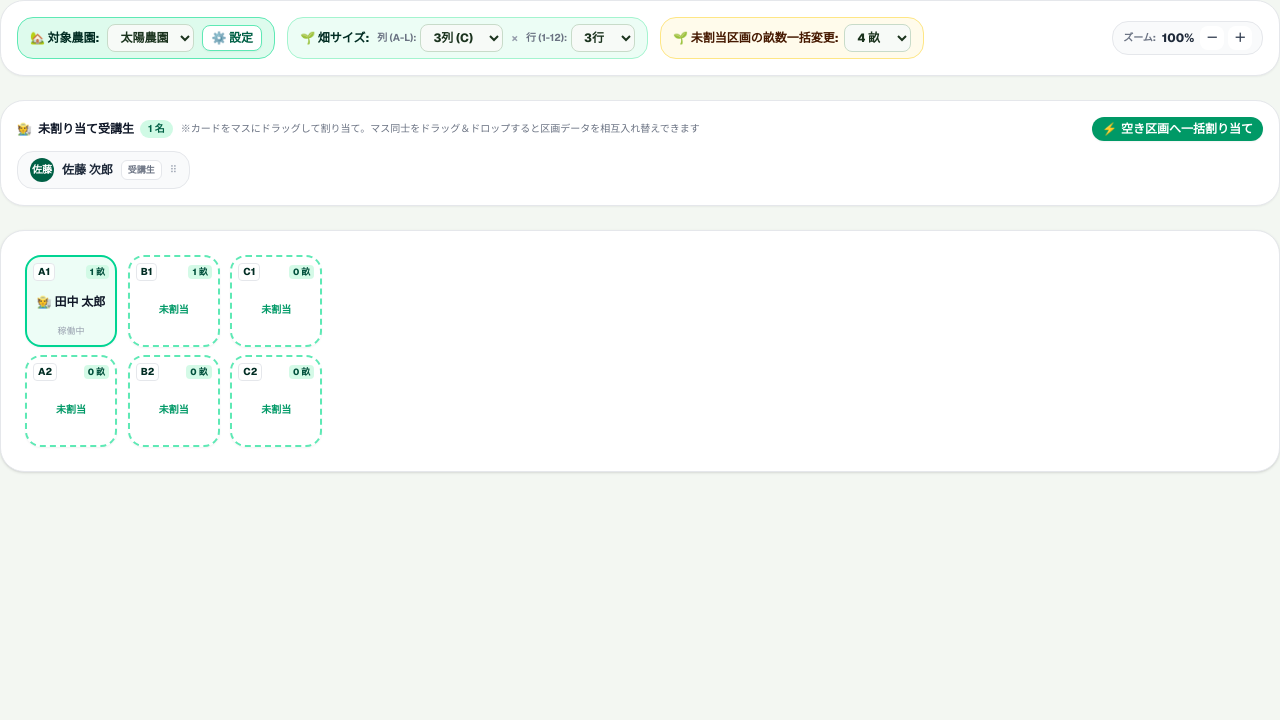
Scenario: PR-1: TeacherFarmCanvasView 特性テスト › 4. 「農園設定」からモーダルが開き、保存すると farms.name と users の更新が呼ばれる（owner_id は更新しない）
The width and height of the screenshot is (1280, 720).
Step 1. Click the button "⚙️ 設定" → (232, 38), box [202, 25, 262, 51]
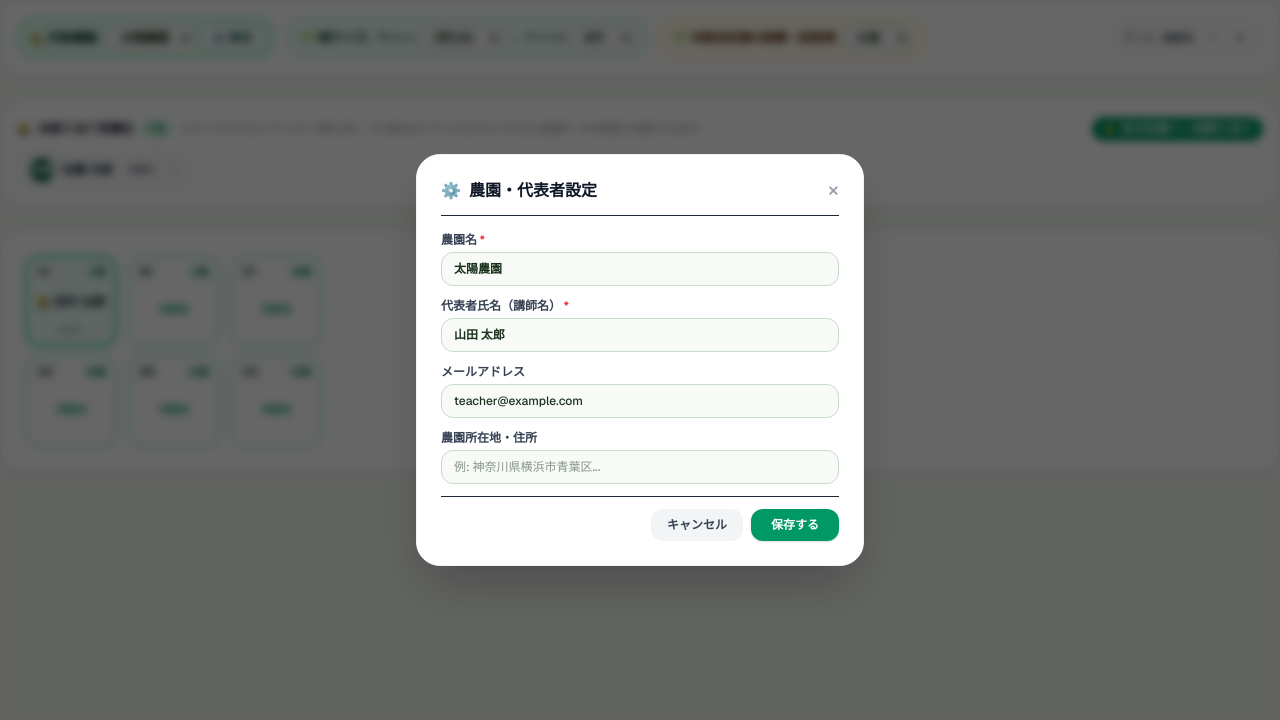
Now the text "農園・代表者設定" is shown, box [469, 179, 597, 203]
Step 2. Replace the text in the field with placeholder "例: たなか農園" below "農園名" with "新しい太陽農園" → (640, 269), box [441, 252, 839, 286]
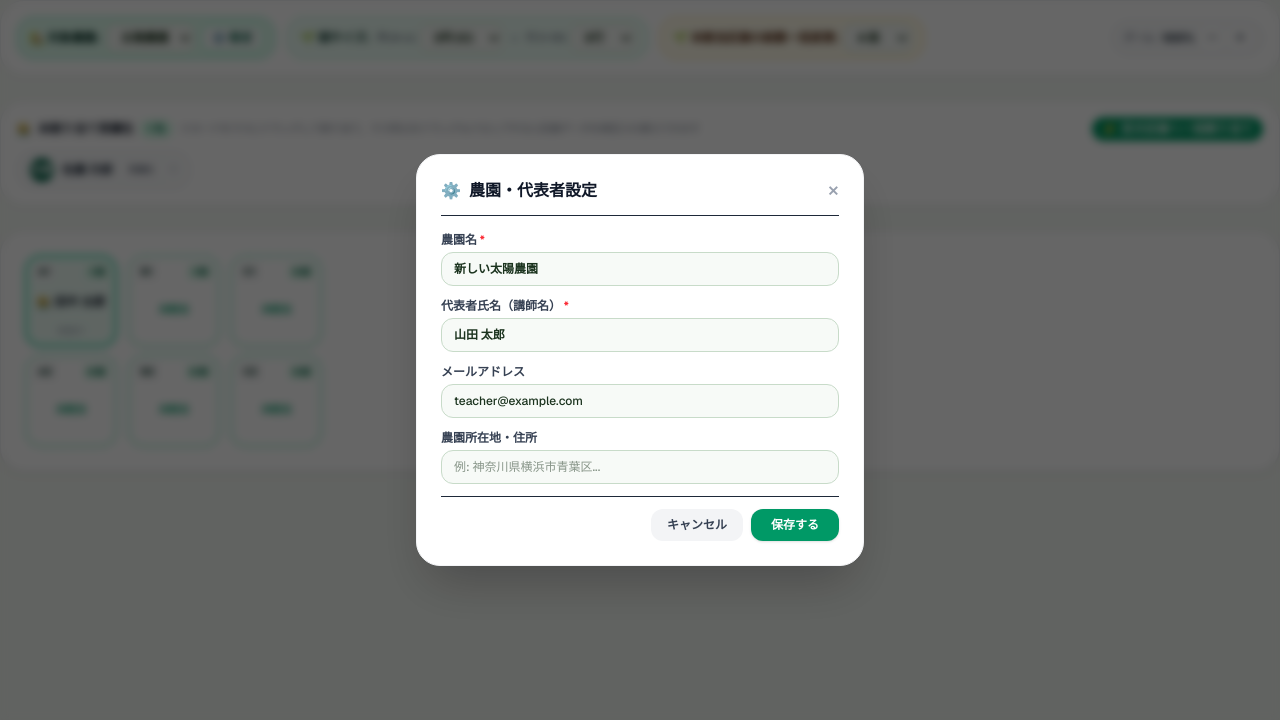
Step 3. Replace the text in the field with placeholder "例: 山田 太郎" below "代表者氏名（講師名）" with "山田 次郎" → (640, 335), box [441, 318, 839, 352]
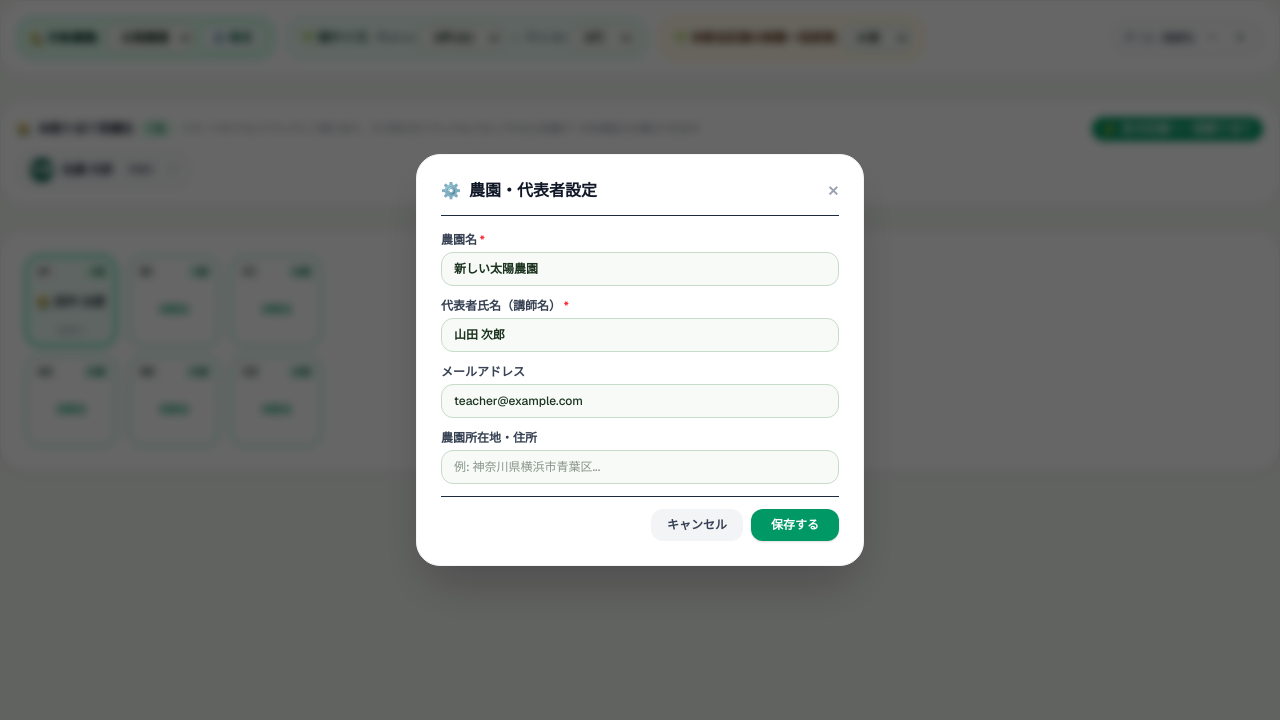
Step 4. Click the button "保存する" → (795, 525), box [751, 509, 839, 541]
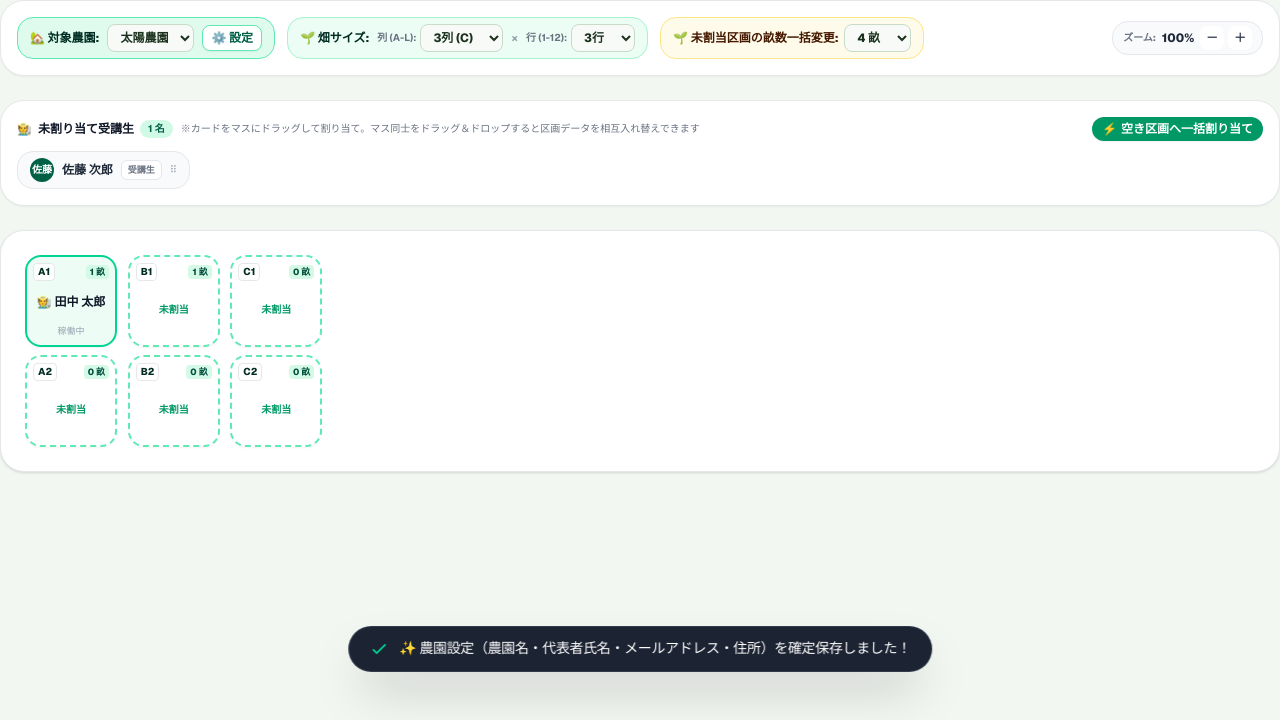
Now the text "✨ 農園設定（農園名・代表者氏名・メールアドレス・住所）を確定保存しました！" is shown, box [399, 639, 911, 659]
